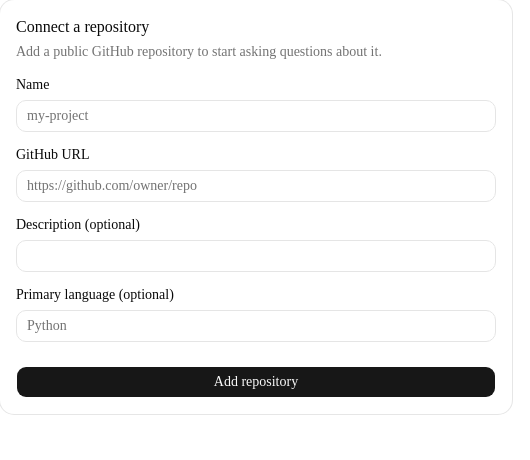
NewRepositoryPage › shows an inline error for a duplicate repository (409)
Type "my-repo" into the field labelled "Name".
click(256, 116); type("my-repo")  # box [16, 100, 496, 132]
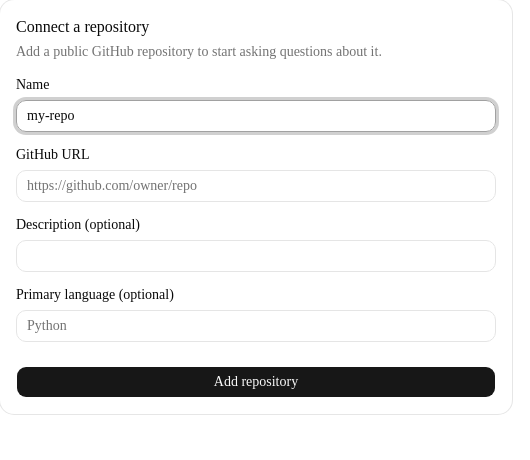
Type "https://github.com/octocat/Hello-World" into the field labelled "GitHub URL".
click(256, 186); type("https://github.com/octocat/Hello-World")  # box [16, 170, 496, 202]
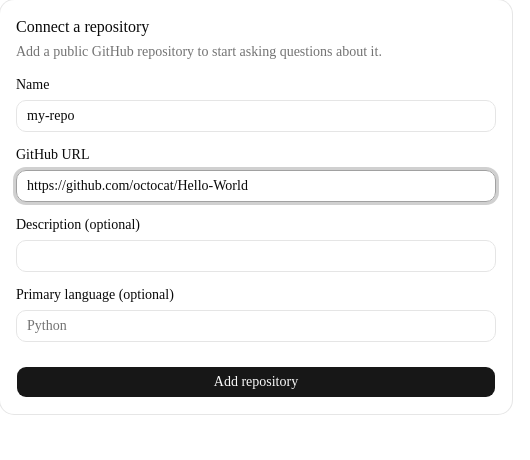
Click the button "Add repository".
click(256, 382)  # box [16, 366, 496, 398]
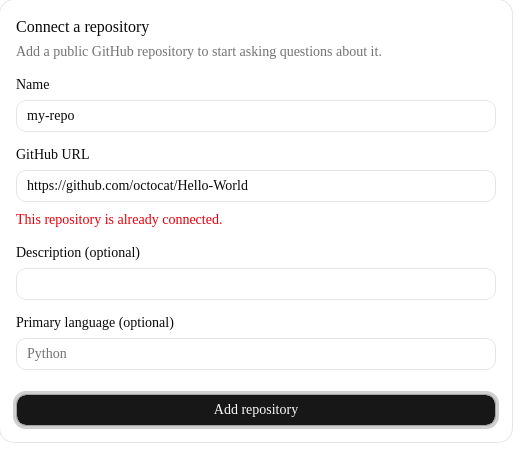
Check: the text "This repository is already connected." is shown, box [16, 212, 222, 227]
